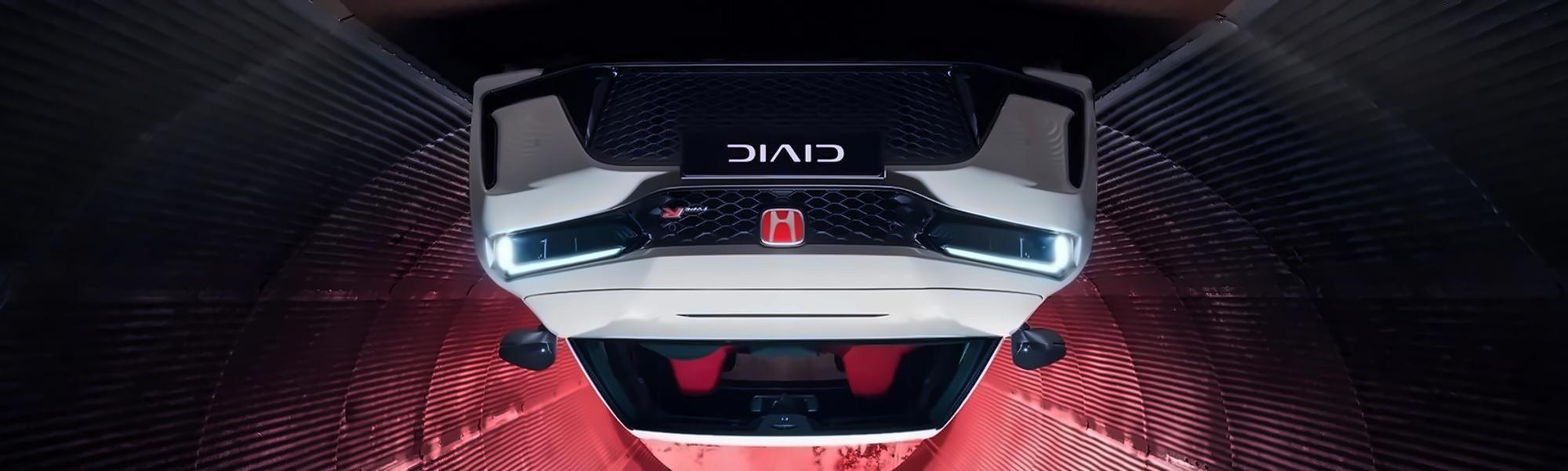Car hood: (502, 239, 1062, 347)
Front bumper: (460, 54, 1111, 235)
Headlight - -L-: (484, 203, 657, 284)
Headlight - -R-: (913, 199, 1082, 282)
Side mirror - -L-: (490, 318, 564, 373)
Side mirror - -R-: (1006, 319, 1068, 375)
